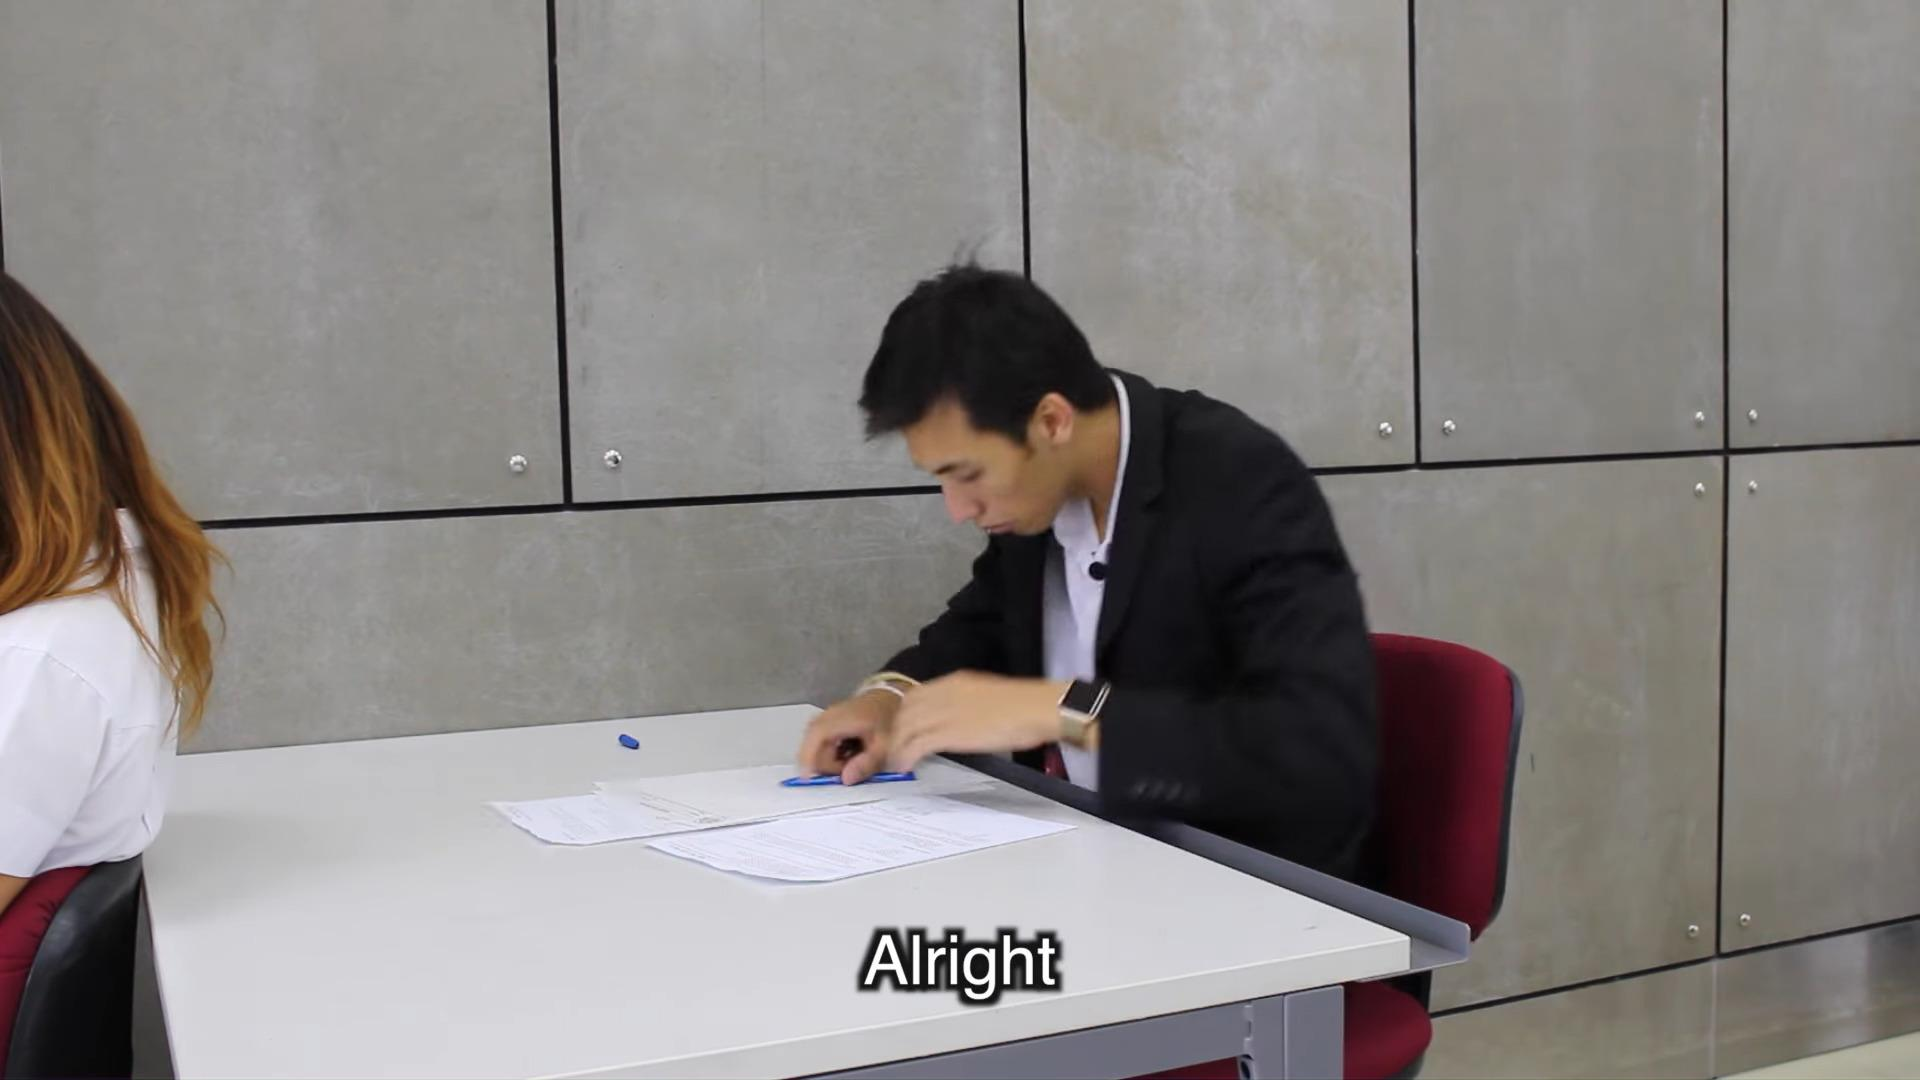good: (475, 256, 1443, 899)
